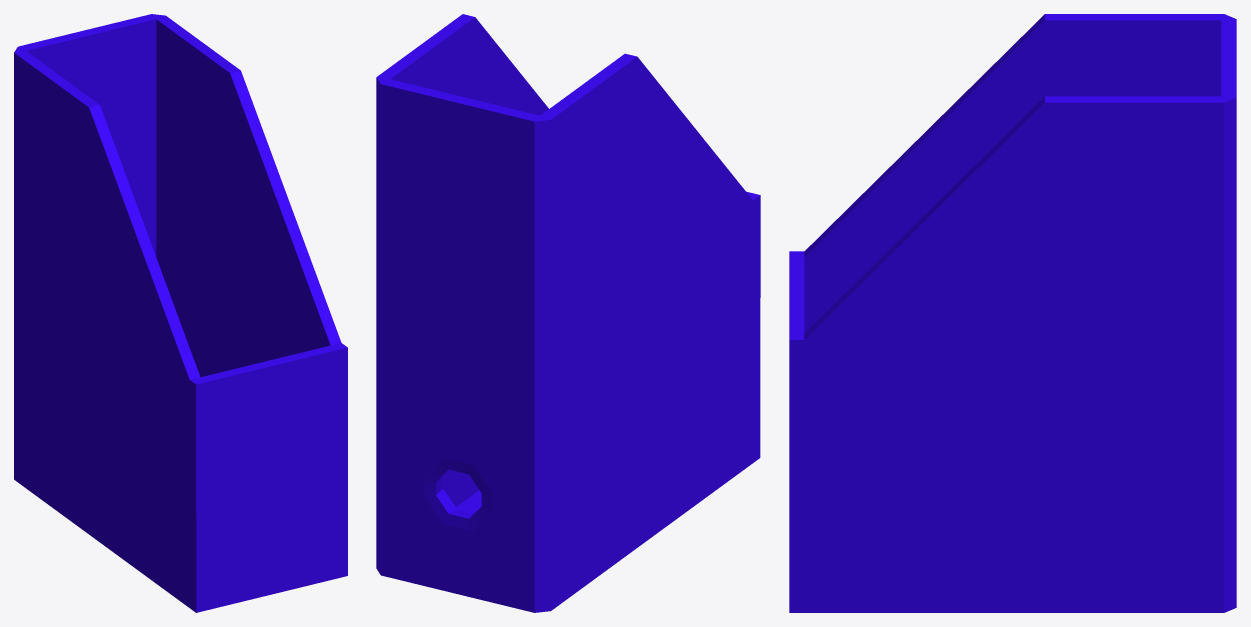
File: office_pack_fileOrganizer_1_meshCollider.fbx
3 views of the same model, side by side, from view 1: azimuth 30°, elevation 25°; view 2: azimuth 150°, elevation 25°; view 3: azimuth 270°, elevation 25° (orthographic). The views are drawn at different scales.
Parts seen in each view (by area): view 1: office_pack_fileOrganizer_1_meshCollider; view 2: office_pack_fileOrganizer_1_meshCollider; view 3: office_pack_fileOrganizer_1_meshCollider.
Boxes of the visible parts, x1=… form: office_pack_fileOrganizer_1_meshCollider: x1=14, y1=14, x2=347, y2=612; office_pack_fileOrganizer_1_meshCollider: x1=376, y1=14, x2=760, y2=612; office_pack_fileOrganizer_1_meshCollider: x1=789, y1=14, x2=1236, y2=612.
Size of the model in its own units: 8.44 by 22.69 by 18.03.
